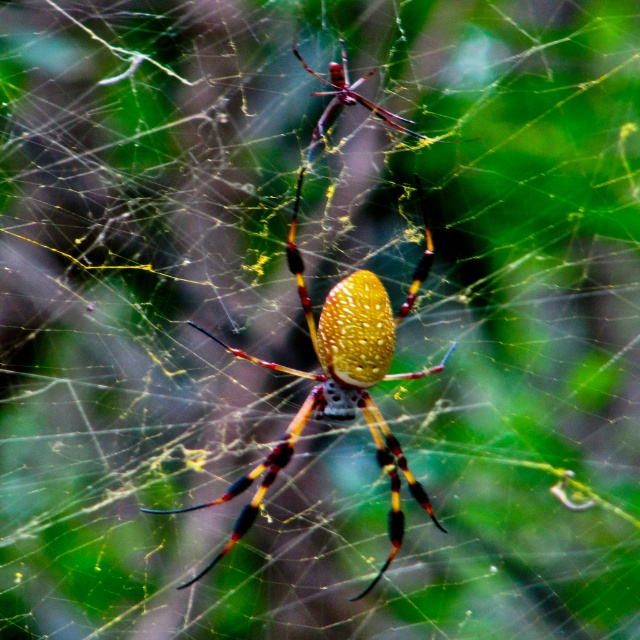Spider: (141, 167, 457, 602), (285, 11, 480, 164)
